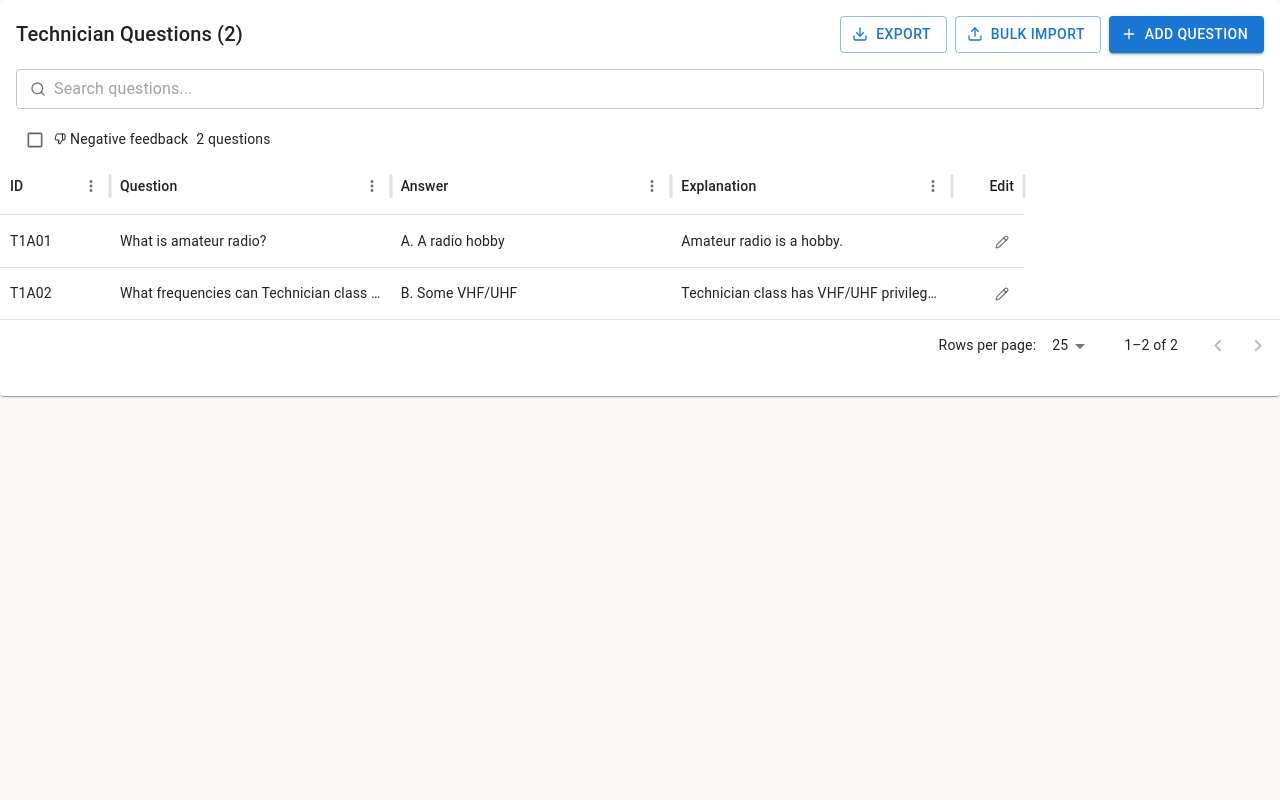
it: AdminQuestions › Edit Question Dialog › should open edit dialog when clicking edit button
The width and height of the screenshot is (1280, 800).
Expected: the text "T1A01" is shown, [10, 232, 52, 248]
Click the button named "Edit T1A01".
click(1002, 242)  # box [990, 230, 1014, 254]
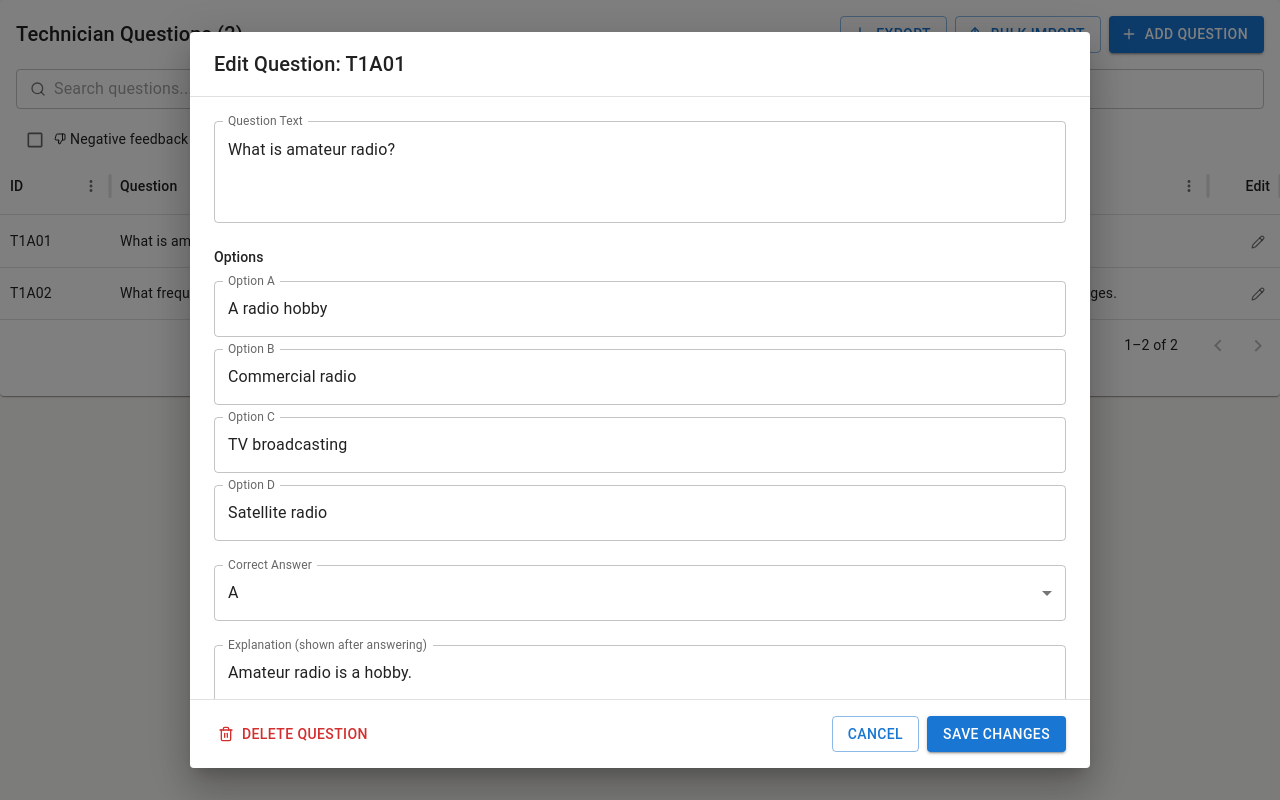
Result: the heading "Edit Question: T1A01" is shown at [214, 52, 406, 76]
